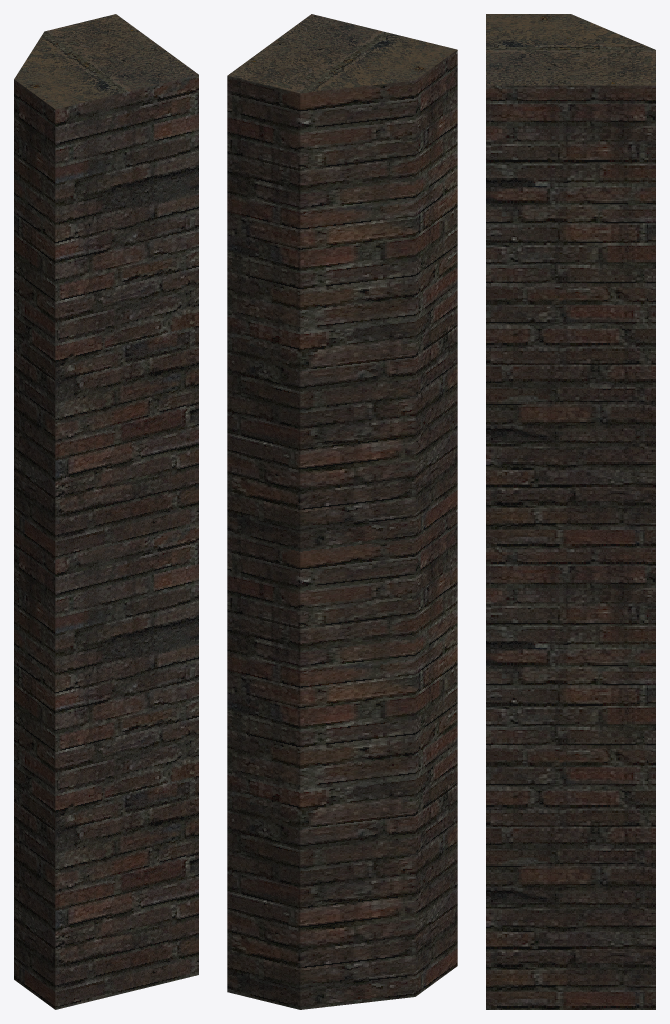
Rendered from pillar_hs_6.glb.
3 renders of one model, left to right at view 1: azimuth 30°, elevation 25°; view 2: azimuth 150°, elevation 25°; view 3: azimuth 270°, elevation 25°, orthographic. The views are drawn at different scales.
Visible parts, largest first — view 1: pillar_hs_6; view 2: pillar_hs_6; view 3: pillar_hs_6.
Part boxes in pixels (left/top/right/bottom): pillar_hs_6: left=14, top=14, right=198, bottom=1009; pillar_hs_6: left=227, top=14, right=457, bottom=1009; pillar_hs_6: left=486, top=14, right=655, bottom=1009.
Bounding box in the file's own units: 1 × 6 × 1.
Materials: 2 (2 with a texture image).
